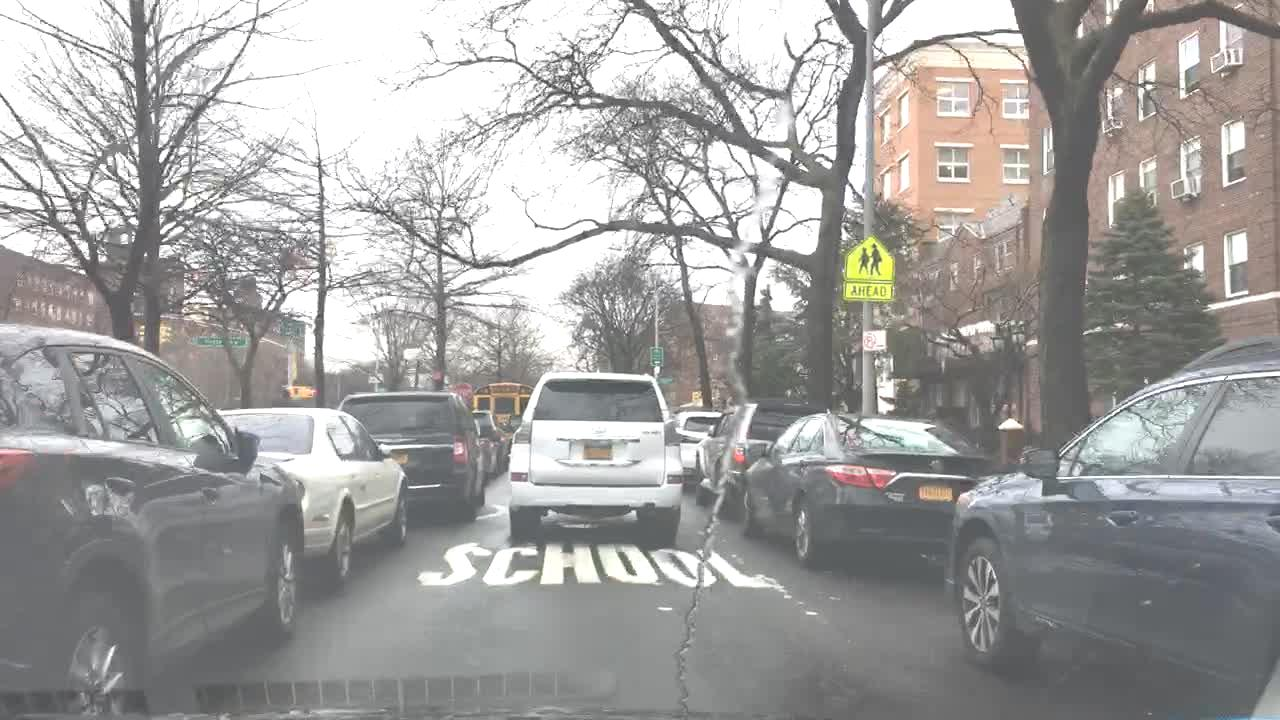lexus: (587, 420, 619, 441)
